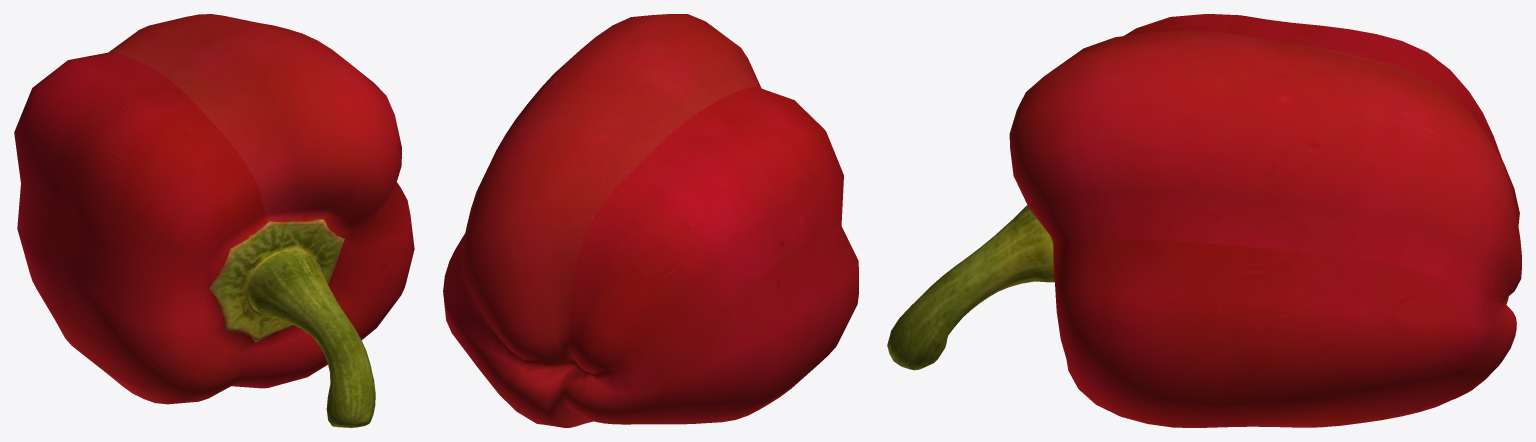
The model's file is capsicum.glb.
3 renders of one model, left to right at view 1: azimuth 30°, elevation 25°; view 2: azimuth 150°, elevation 25°; view 3: azimuth 270°, elevation 25°, orthographic. The views are drawn at different scales.
Visible parts, largest first — view 1: sm_food_produce_bellPepper_a01_01; view 2: sm_food_produce_bellPepper_a01_01; view 3: sm_food_produce_bellPepper_a01_01.
Boxes of the visible parts, left/top/right/bottom form: sm_food_produce_bellPepper_a01_01: left=14, top=14, right=414, bottom=427; sm_food_produce_bellPepper_a01_01: left=443, top=14, right=858, bottom=427; sm_food_produce_bellPepper_a01_01: left=887, top=14, right=1521, bottom=427.
Bounding box in the file's own units: 0.0746 × 0.0744 × 0.1097.
Materials: 1 (1 with a texture image).
